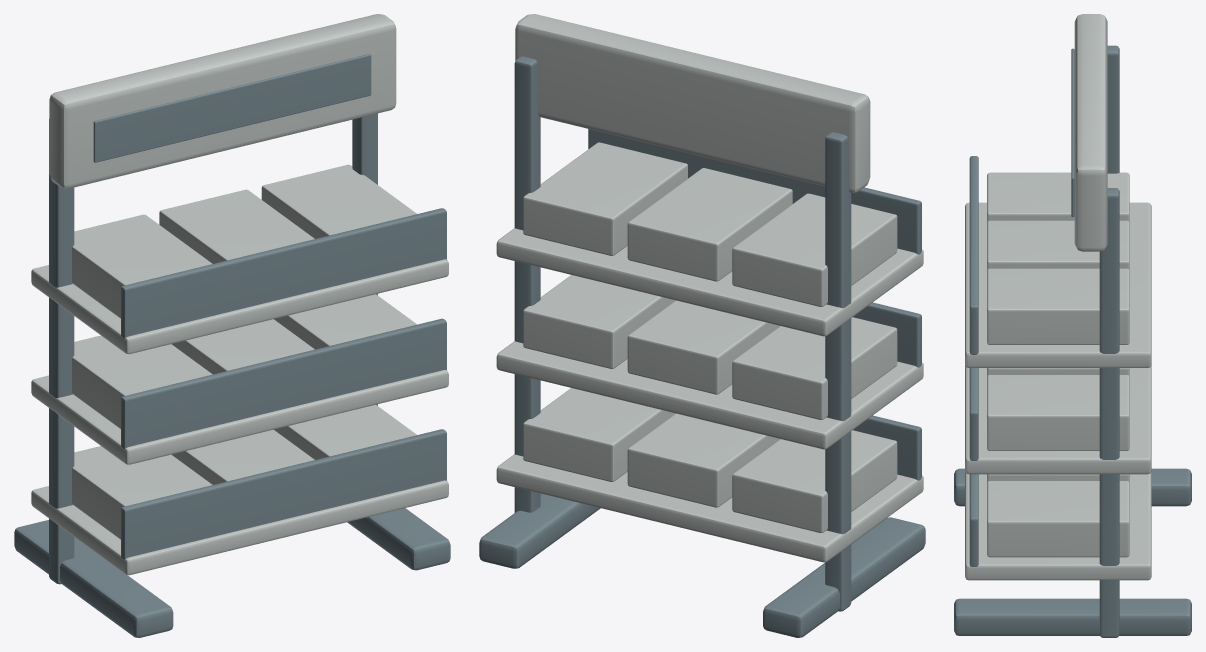
Rendered from newspaper-stand.glb.
3 renders of one model, left to right at view 1: azimuth 30°, elevation 25°; view 2: azimuth 150°, elevation 25°; view 3: azimuth 270°, elevation 25°, orthographic. The views are drawn at different scales.
Parts seen in each view (by area): view 1: header, shelf_lip.002, shelf_lip, shelf_lip.001, header_inset, shelf, shelf.002, shelf.001, frame_post, newspaper_stack.006, newspaper_stack.007, newspaper_stack.008 (+9 smaller); view 2: header, shelf.002, shelf.001, shelf, newspaper_stack.007, newspaper_stack.008, newspaper_stack.006, frame_post, newspaper_stack.003, newspaper_stack, newspaper_stack.001, newspaper_stack.004 (+8 smaller); view 3: newspaper_stack.008, newspaper_stack.002, newspaper_stack.005, shelf.002, foot.001, frame_post.001, header, shelf.001, shelf, newspaper_stack.007, newspaper_stack.006, foot (+7 smaller).
Boxes of the visible parts, x1,y1,x2,y2 form: header: (49, 14, 396, 188); shelf_lip.002: (121, 208, 446, 338); shelf_lip: (121, 429, 446, 559); shelf_lip.001: (121, 318, 446, 448); header_inset: (93, 54, 371, 162); shelf: (31, 480, 448, 575); shelf.002: (31, 259, 448, 354); shelf.001: (31, 370, 448, 464); frame_post: (49, 119, 74, 584); newspaper_stack.006: (72, 214, 212, 318); newspaper_stack.007: (159, 189, 314, 263); newspaper_stack.008: (261, 164, 416, 238); header: (515, 14, 870, 192); shelf.002: (496, 228, 923, 336); shelf.001: (496, 341, 923, 449); shelf: (496, 454, 923, 562); newspaper_stack.007: (627, 168, 792, 281); newspaper_stack.008: (523, 142, 687, 255); newspaper_stack.006: (732, 193, 897, 306); frame_post: (825, 132, 851, 611); newspaper_stack.003: (732, 317, 897, 419); newspaper_stack: (732, 430, 897, 533); newspaper_stack.001: (627, 413, 779, 507); newspaper_stack.004: (627, 300, 779, 394); newspaper_stack.008: (987, 268, 1129, 344); newspaper_stack.002: (987, 481, 1129, 557); newspaper_stack.005: (987, 375, 1129, 450); shelf.002: (965, 202, 1151, 367); foot.001: (954, 598, 1191, 635); frame_post.001: (1099, 188, 1119, 637); header: (1074, 14, 1107, 251); shelf.001: (965, 365, 1151, 474); shelf: (965, 471, 1151, 580); newspaper_stack.007: (987, 220, 1129, 270); newspaper_stack.006: (987, 172, 1129, 222); foot: (954, 468, 1191, 506).
Bounding box in the file's own units: 1.02 × 1.43 × 0.65.
